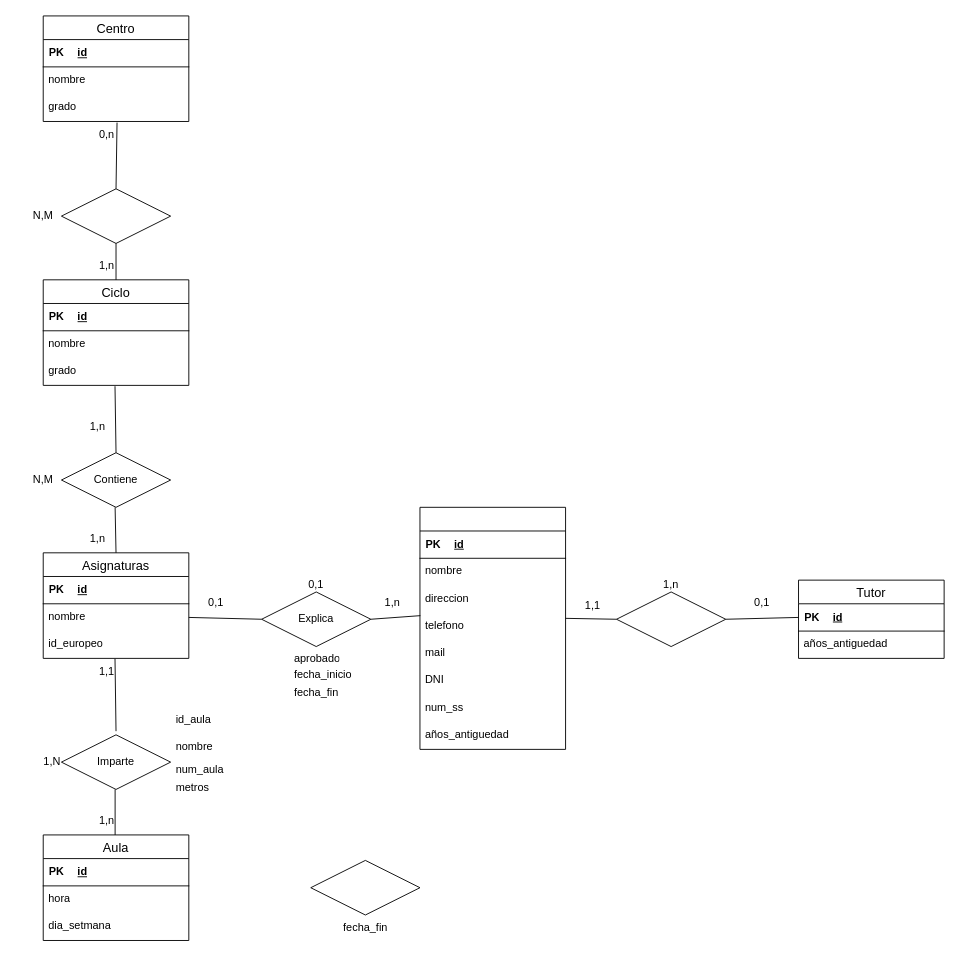
Image size: 960x961. Some labels were removed from this diagram. The shapes that lost their labels are listed below. From the top down, each one's box as (x1, y1, x2, y2) in pixels, then its label:
(61, 188, 171, 243): Enseña
(419, 506, 566, 749): Profesor
(616, 591, 726, 647): Es
(310, 859, 420, 915): Se Encuentra
